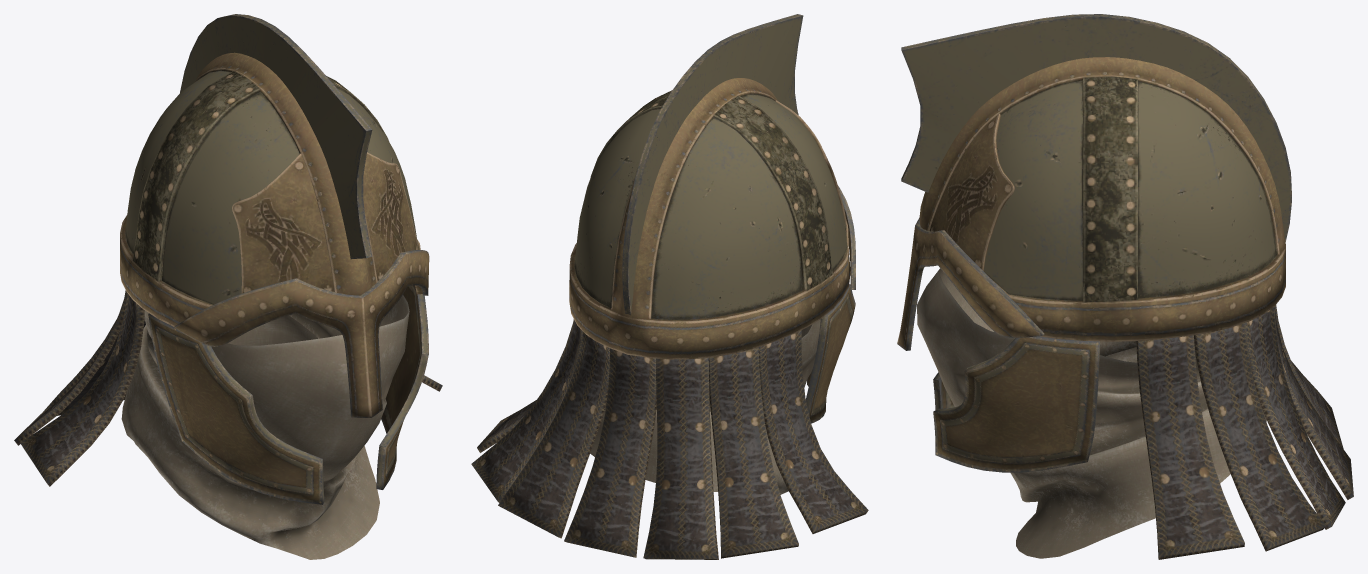
File: dunland_wulf_helmet_elite_e.fbx
3 renders of one model, left to right at view 1: azimuth 30°, elevation 25°; view 2: azimuth 150°, elevation 25°; view 3: azimuth 270°, elevation 25°, orthographic. The views are drawn at different scales.
Parts seen in each view (by area): view 1: dunland_wulf_helmet_elite_e.helmet, dunland_wulf_helmet_elite_e.straps; view 2: dunland_wulf_helmet_elite_e.helmet, dunland_wulf_helmet_elite_e.straps; view 3: dunland_wulf_helmet_elite_e.helmet, dunland_wulf_helmet_elite_e.straps.
Part boxes in pixels (box(x1,y1,x2,y2)): dunland_wulf_helmet_elite_e.helmet: box(120, 14, 429, 559); dunland_wulf_helmet_elite_e.straps: box(14, 290, 442, 486); dunland_wulf_helmet_elite_e.helmet: box(569, 14, 855, 494); dunland_wulf_helmet_elite_e.straps: box(471, 319, 868, 559); dunland_wulf_helmet_elite_e.helmet: box(897, 14, 1291, 558); dunland_wulf_helmet_elite_e.straps: box(1136, 304, 1353, 559).
Size of the model in its own units: 0.3217 by 0.3109 by 0.3904.
1 material, 1 textured.
